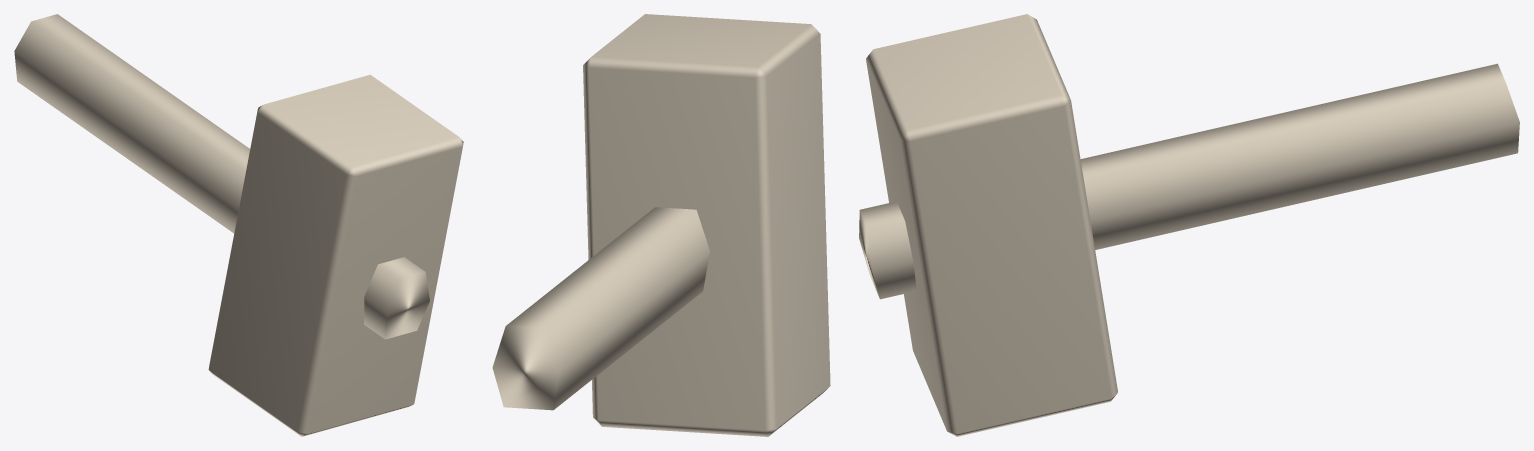
Rendered from hammer-base.glb.
3 renders of one model, left to right at view 1: azimuth 30°, elevation 25°; view 2: azimuth 150°, elevation 25°; view 3: azimuth 270°, elevation 25°, orthographic. The views are drawn at different scales.
Bounding box in the file's own units: 0.2682 × 0.4098 × 0.6846.
